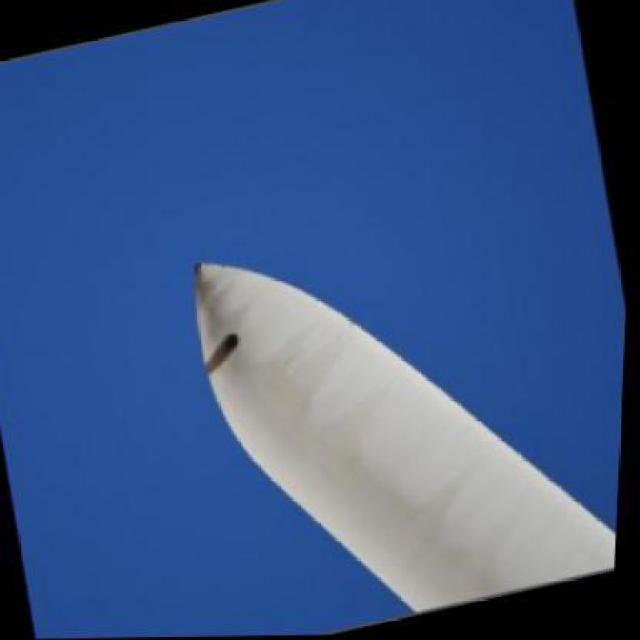Burn Mark: (202, 330, 249, 376)
